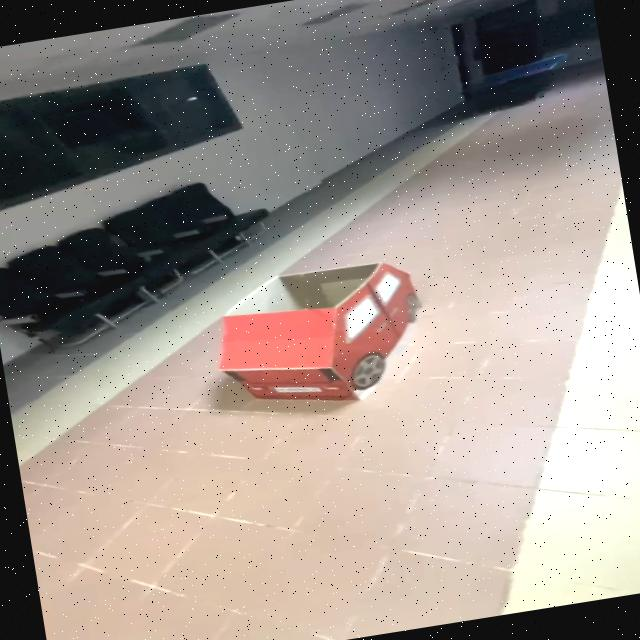red_car: (182, 239, 465, 451)
